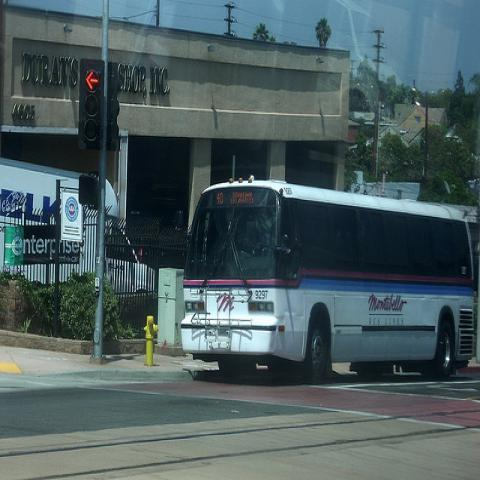bus: (178, 174, 478, 382)
truck: (0, 156, 156, 295)
